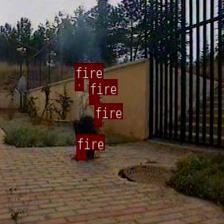fire: (76, 150, 86, 160), (74, 79, 83, 89), (89, 94, 98, 104), (94, 119, 101, 126)
